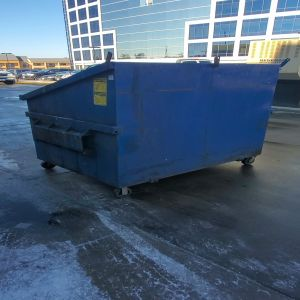Dumpster: (22, 61, 281, 199)
